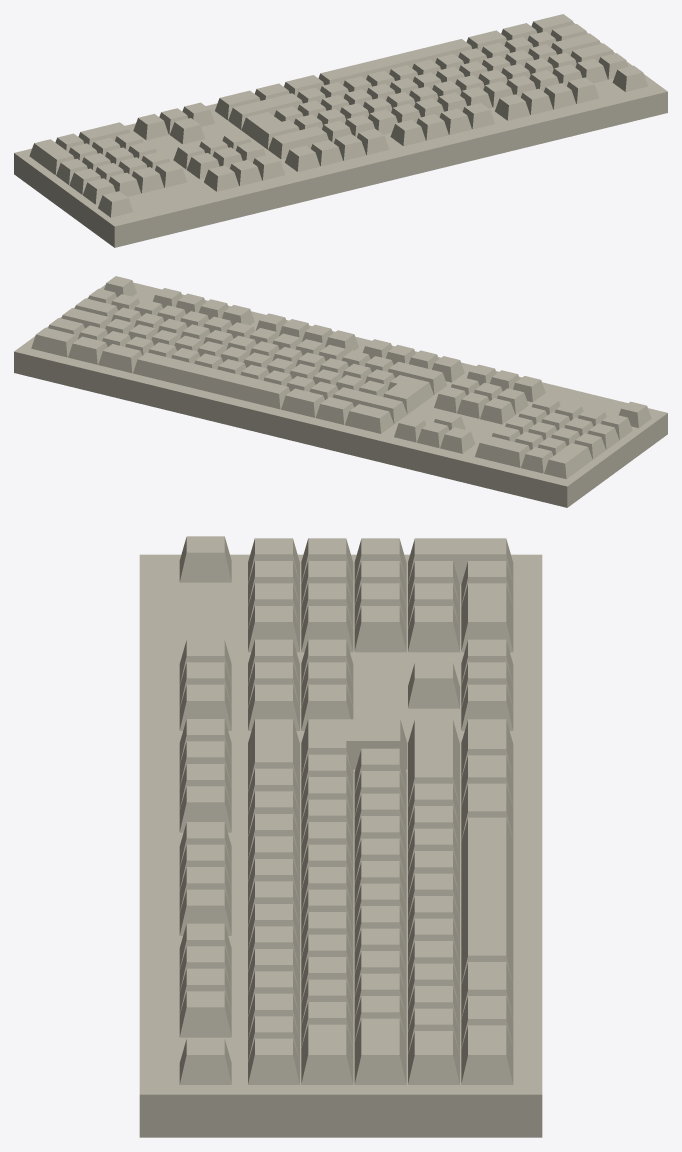
Rendered from ComputerKeyboard_01.fbx.
The picture shows the model from 3 angles, top to bottom: view 1: azimuth 30°, elevation 25°; view 2: azimuth 150°, elevation 25°; view 3: azimuth 270°, elevation 25°; orthographic projection. The views are drawn at different scales.
Parts seen in each view (by area): view 1: ComputerKeyboard_01; view 2: ComputerKeyboard_01; view 3: ComputerKeyboard_01.
Boxes of the visible parts, x1=… form: ComputerKeyboard_01: x1=14, y1=14, x2=667, y2=247; ComputerKeyboard_01: x1=14, y1=276, x2=667, y2=507; ComputerKeyboard_01: x1=139, y1=536, x2=542, y2=1137.
Bounding box in the file's own units: 0.542 × 0.0328 × 0.1708.
